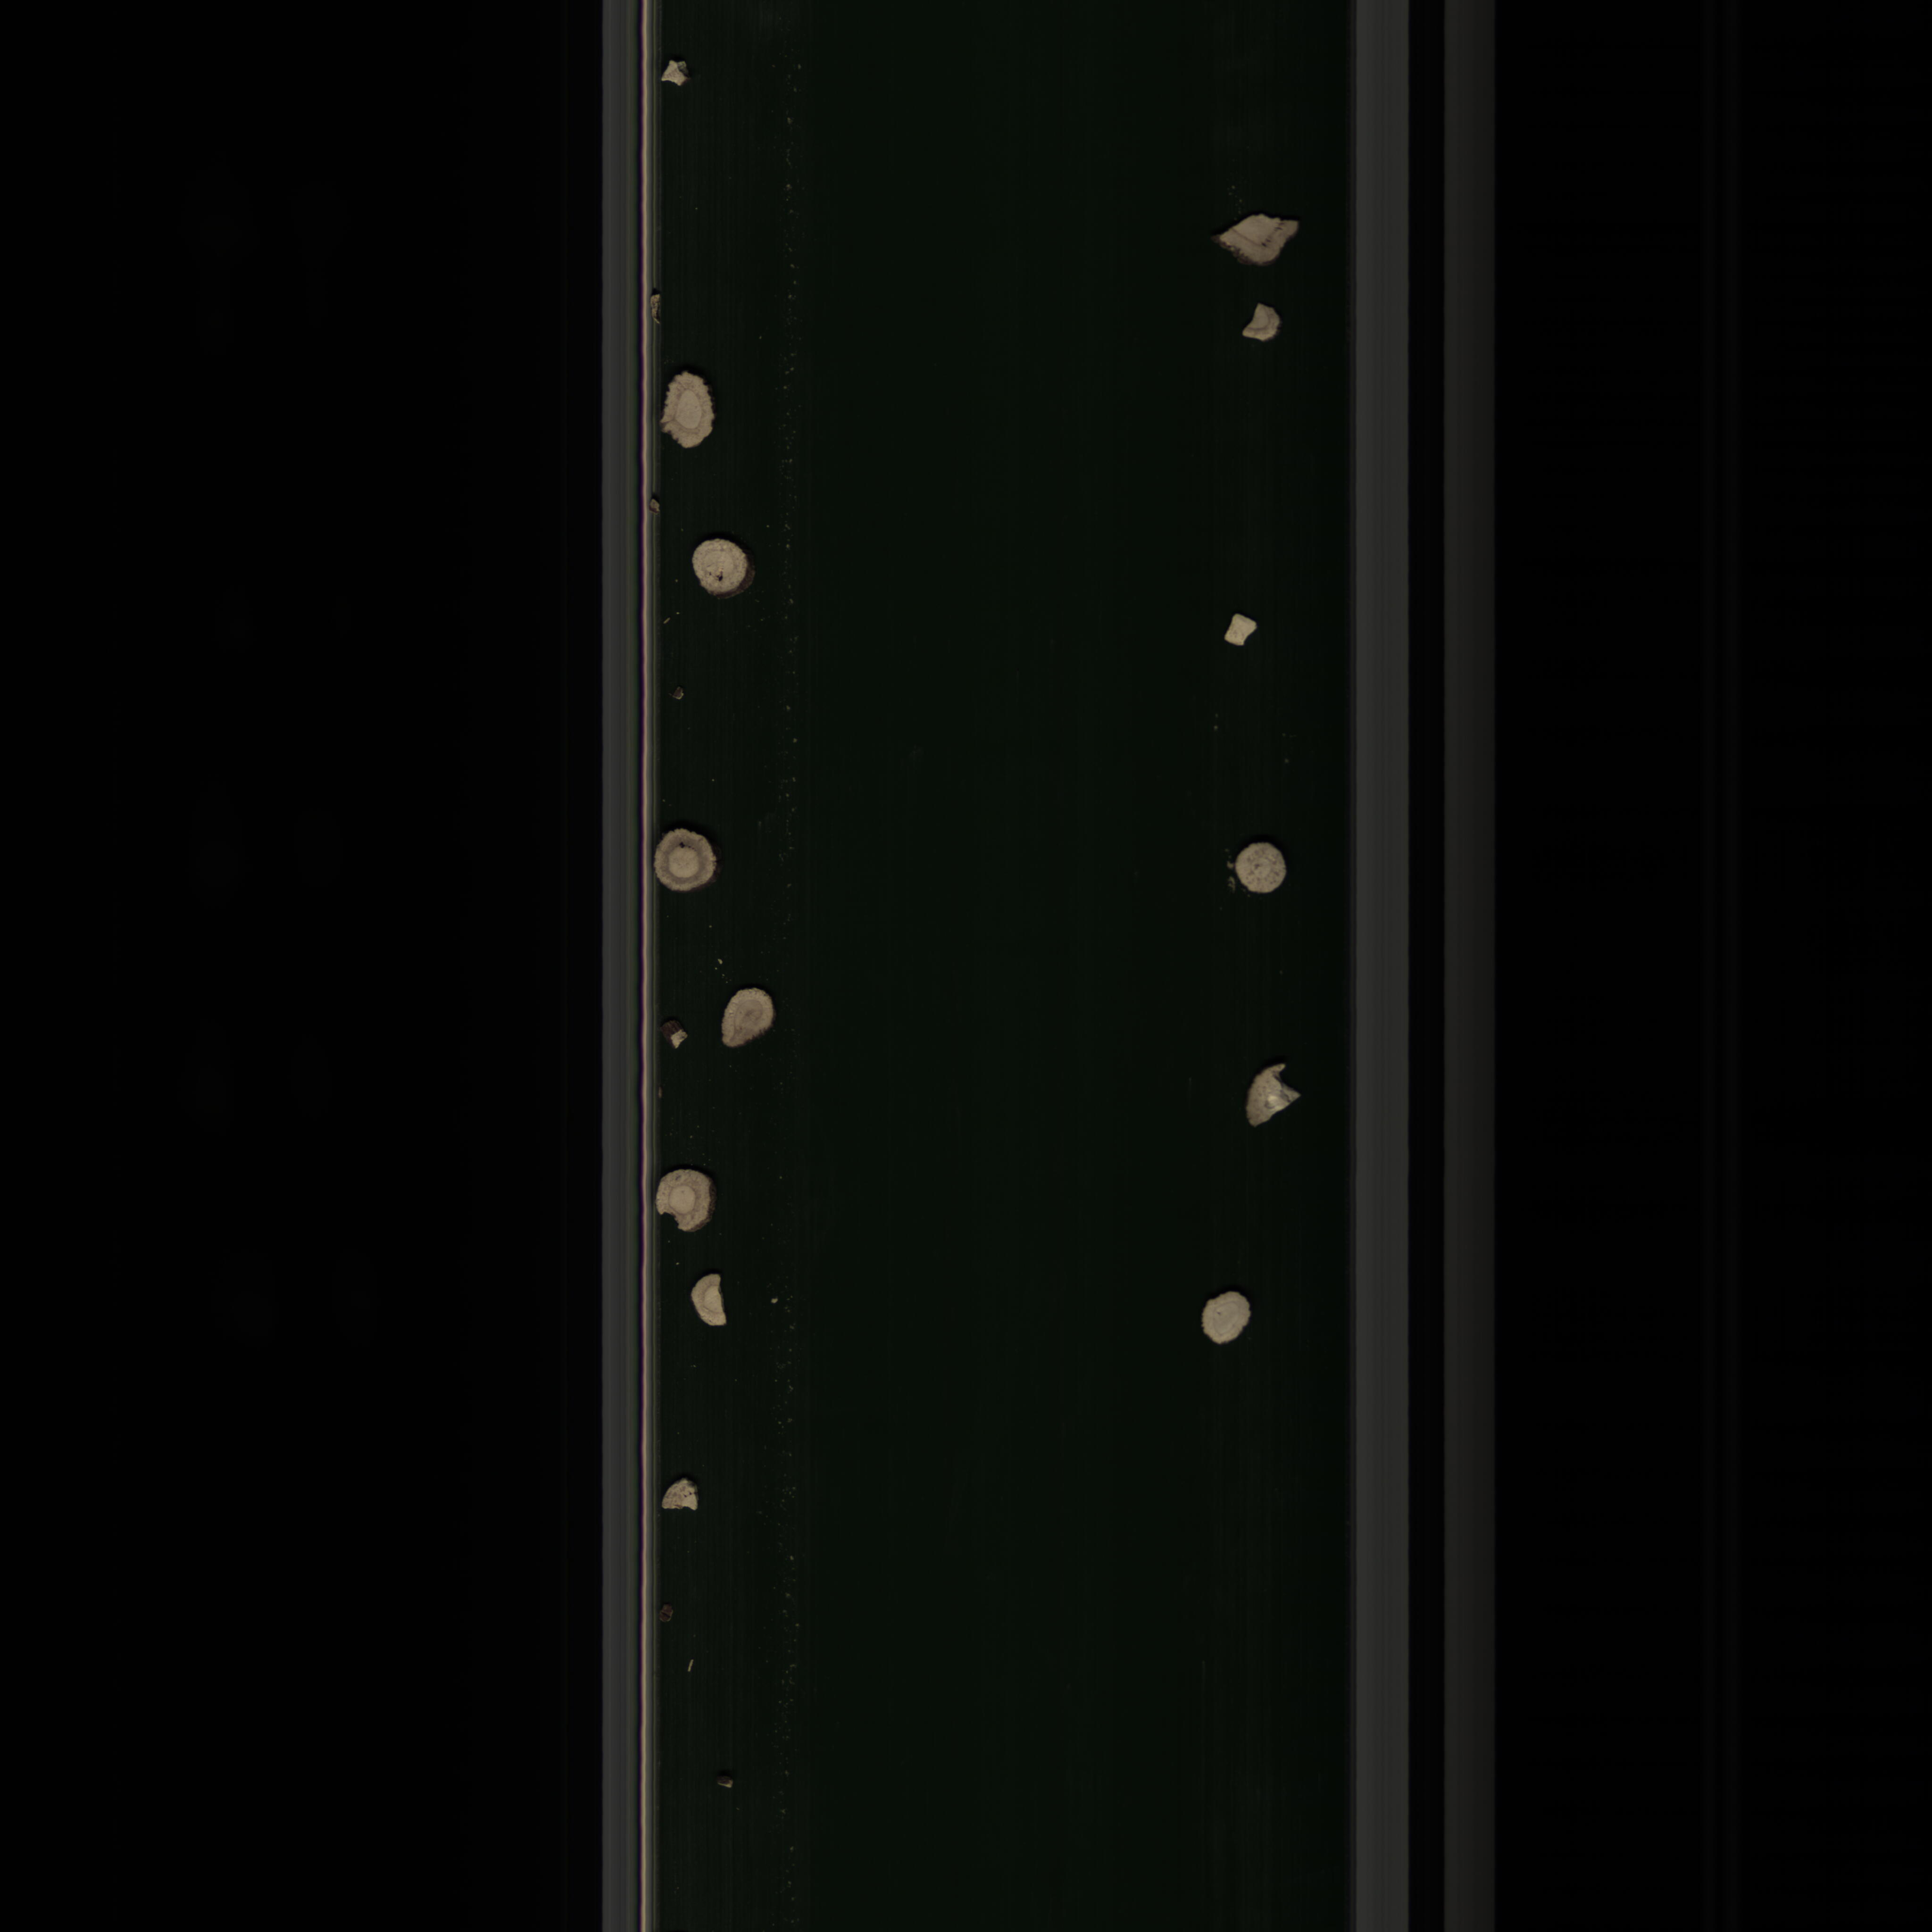debris: (1212, 209, 1309, 272), (1238, 1054, 1307, 1136), (653, 1162, 718, 1238), (683, 1269, 747, 1330), (1233, 297, 1288, 354), (655, 48, 702, 94), (658, 1472, 706, 1518), (1219, 607, 1260, 651)
hole: (653, 826, 729, 895), (685, 536, 757, 603)
